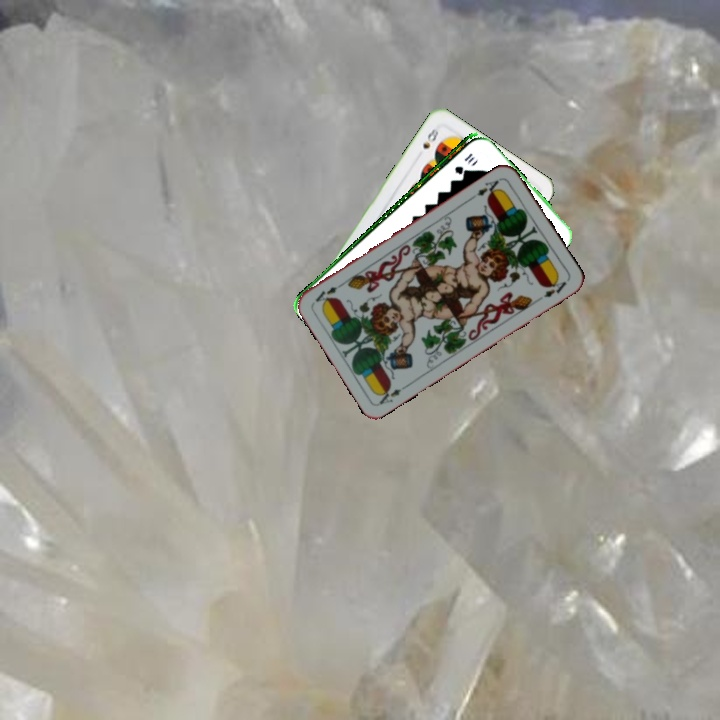EA: (373, 380, 411, 407), (467, 174, 503, 202)
G10: (450, 149, 477, 176)
S8: (419, 121, 441, 152)
